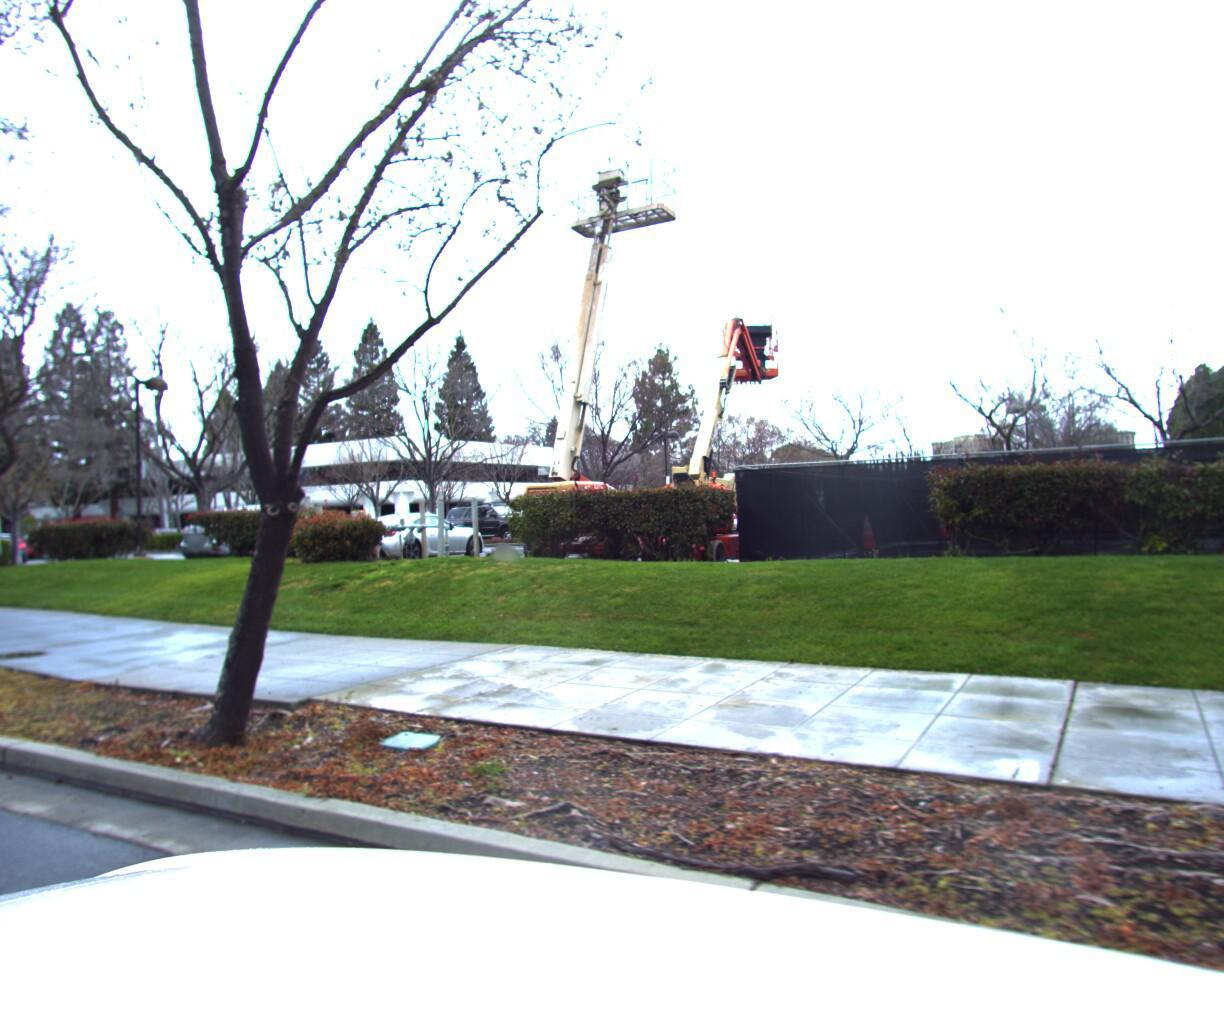car: (176, 503, 358, 575), (444, 499, 550, 548)
